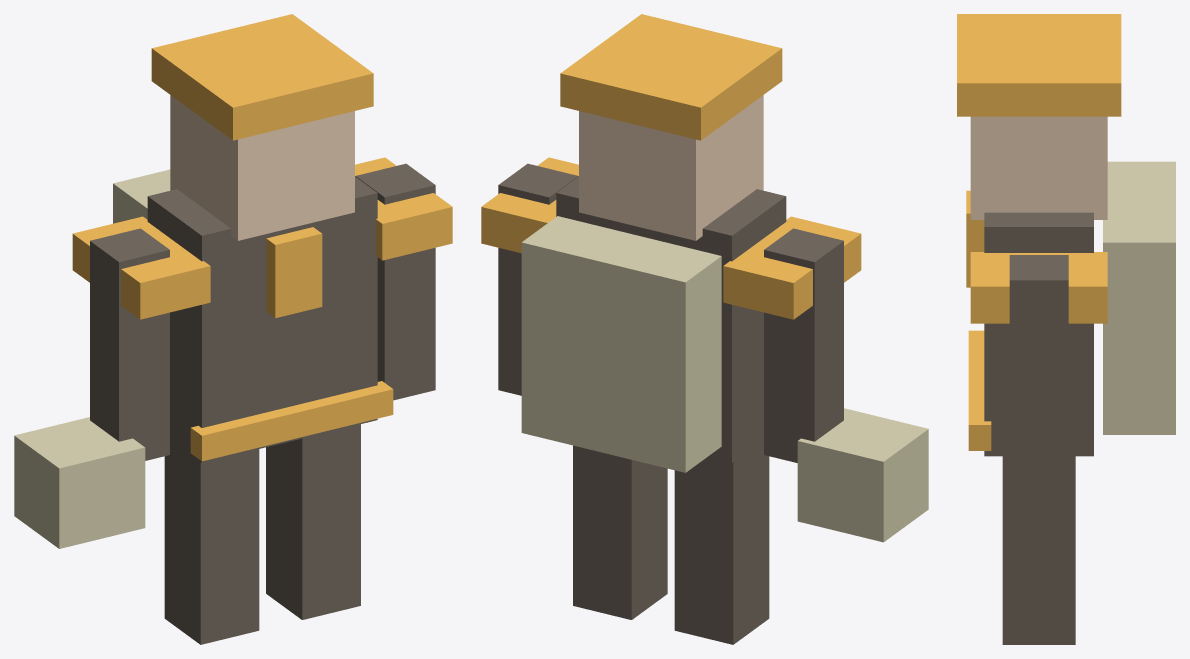
File: 08_auren_spirebound_cartographer_of_decon.glb
The picture shows the model from 3 angles, left to right: view 1: azimuth 30°, elevation 25°; view 2: azimuth 150°, elevation 25°; view 3: azimuth 270°, elevation 25°; orthographic projection.
Visible parts, largest first — view 1: Auren Spirebound, Cartographer of Decon; view 2: Auren Spirebound, Cartographer of Decon; view 3: Auren Spirebound, Cartographer of Decon.
Boxes of the visible parts, x1,y1,x2,y2 form: Auren Spirebound, Cartographer of Decon: (14,14,452,644); Auren Spirebound, Cartographer of Decon: (481,14,928,644); Auren Spirebound, Cartographer of Decon: (957,14,1175,644).
Size of the model in its own units: 1.05 by 1.42 by 0.5043.
